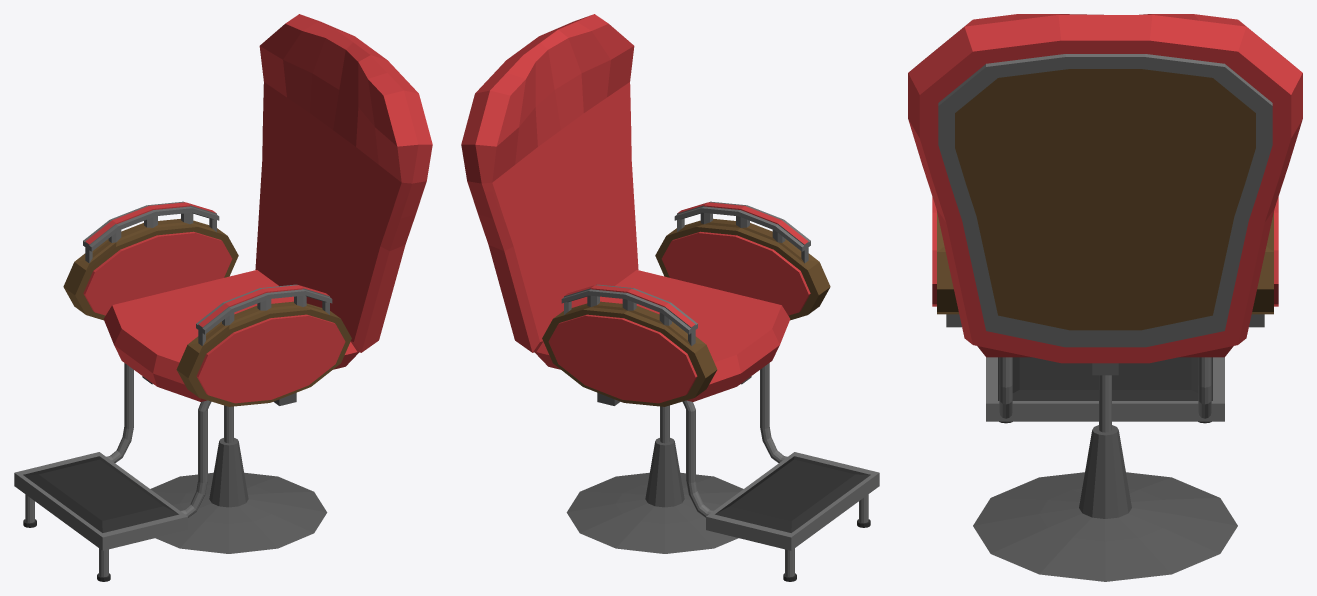
File: Barber Chair.fbx
3 renders of one model, left to right at view 1: azimuth 30°, elevation 25°; view 2: azimuth 150°, elevation 25°; view 3: azimuth 270°, elevation 25°, orthographic. The views are drawn at different scales.
Visible parts, largest first — view 1: Barber Chair, Back Rest, Stand; view 2: Barber Chair, Back Rest, Stand; view 3: Back Rest, Stand, Barber Chair.
Part boxes in pixels (x1,y1,x2,y2): Barber Chair: [14, 201, 358, 581]; Back Rest: [255, 14, 432, 352]; Stand: [150, 438, 327, 553]; Barber Chair: [535, 201, 879, 581]; Back Rest: [461, 14, 638, 352]; Stand: [566, 438, 743, 553]; Back Rest: [908, 14, 1302, 363]; Stand: [973, 425, 1237, 581]; Barber Chair: [932, 197, 1278, 432].
Size of the model in its own units: 738 by 986 by 595.
